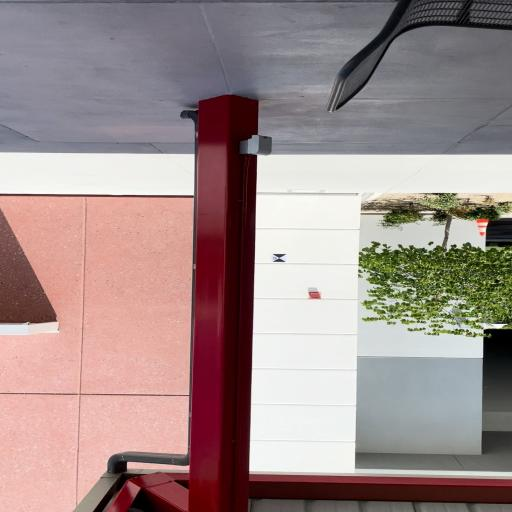target6: (272, 254, 286, 262)
